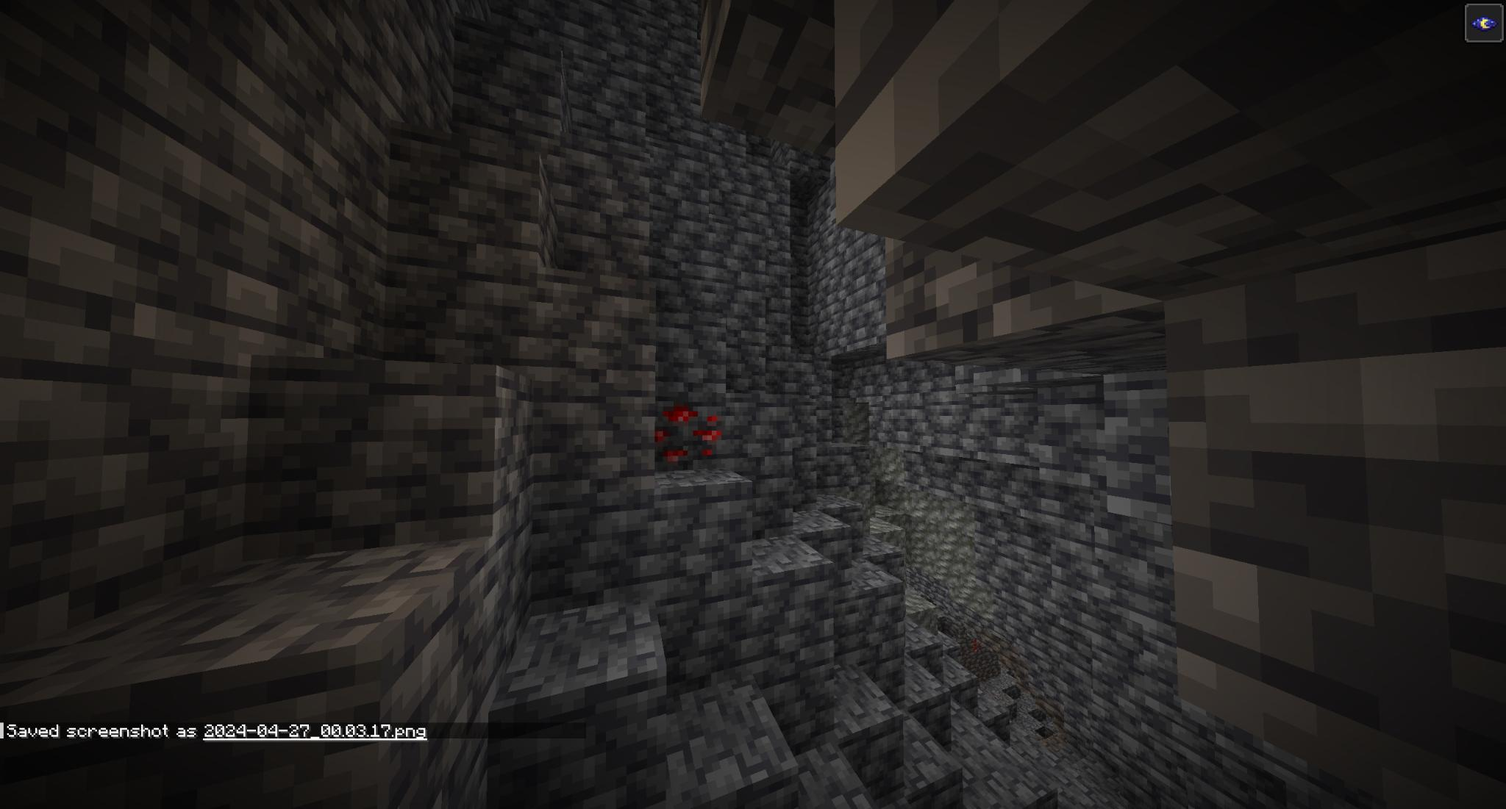redstone ore: (656, 403, 722, 471)
